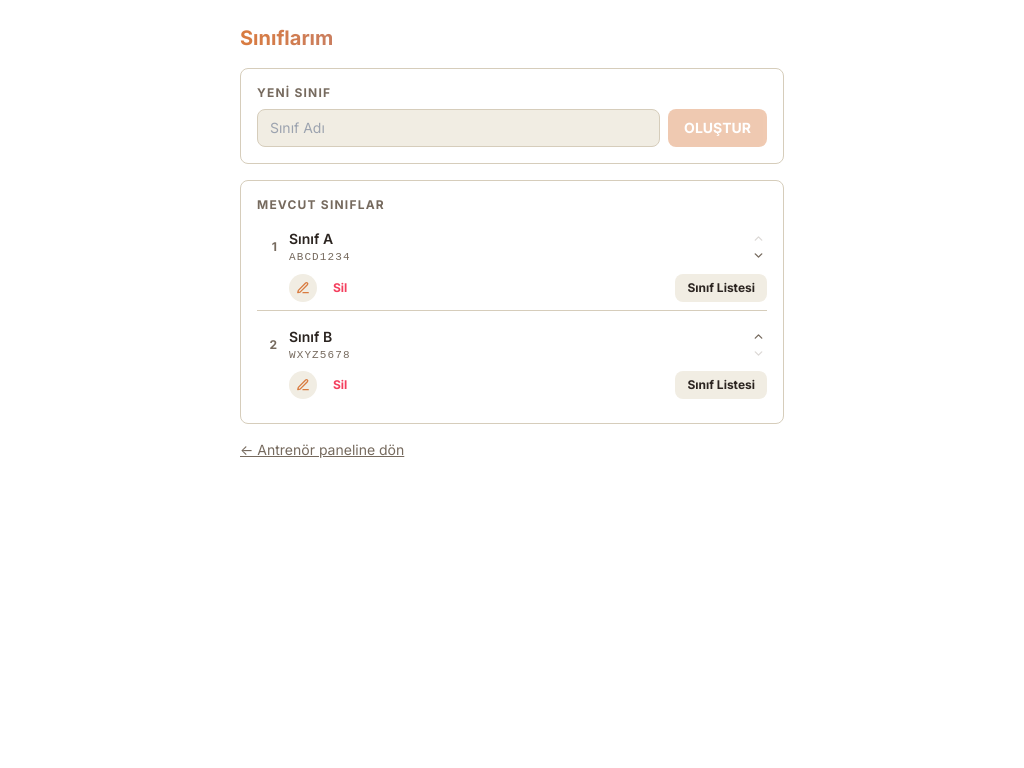
Test: İsim düzeltme (Sınıflarım yönetimi) › kaydetme başarısız olursa hata gösterir, panel açık kalır
The width and height of the screenshot is (1024, 768).
Expected: the text "Sınıf A" is shown, [289,230,333,247]
Click the button named "Sınıf A adını düzenle" at (303,288), box [289,274,317,302]
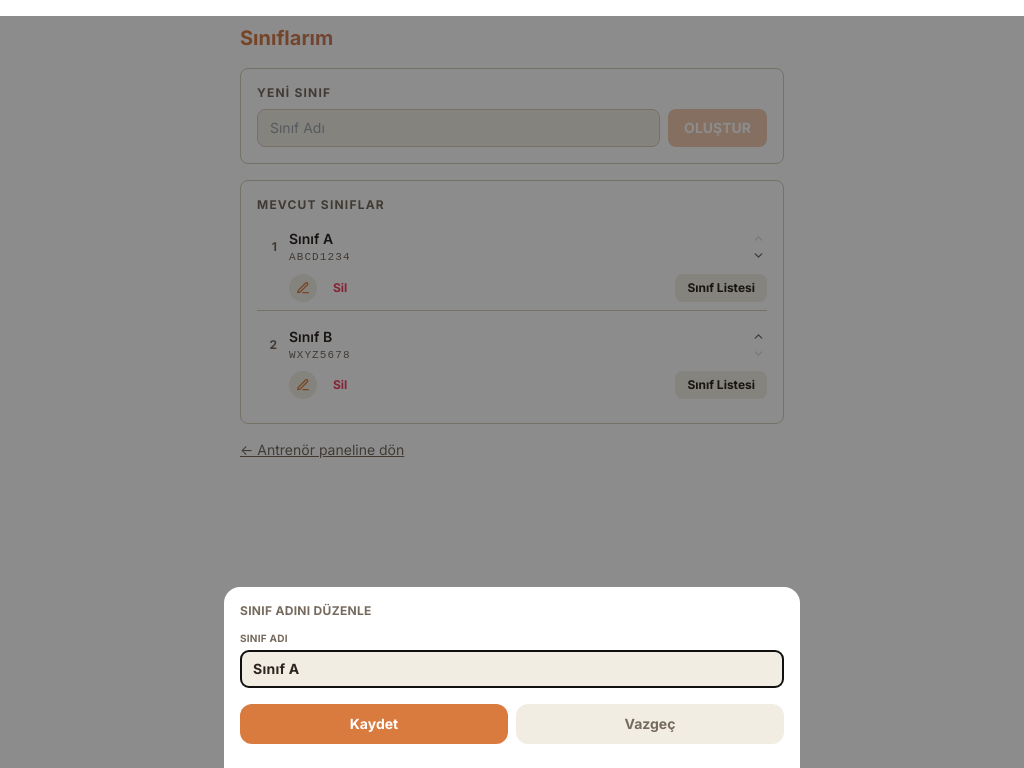
Replace the text in the field labelled "Sınıf Adı" with "X" at (512,669), box [240,650,784,688]
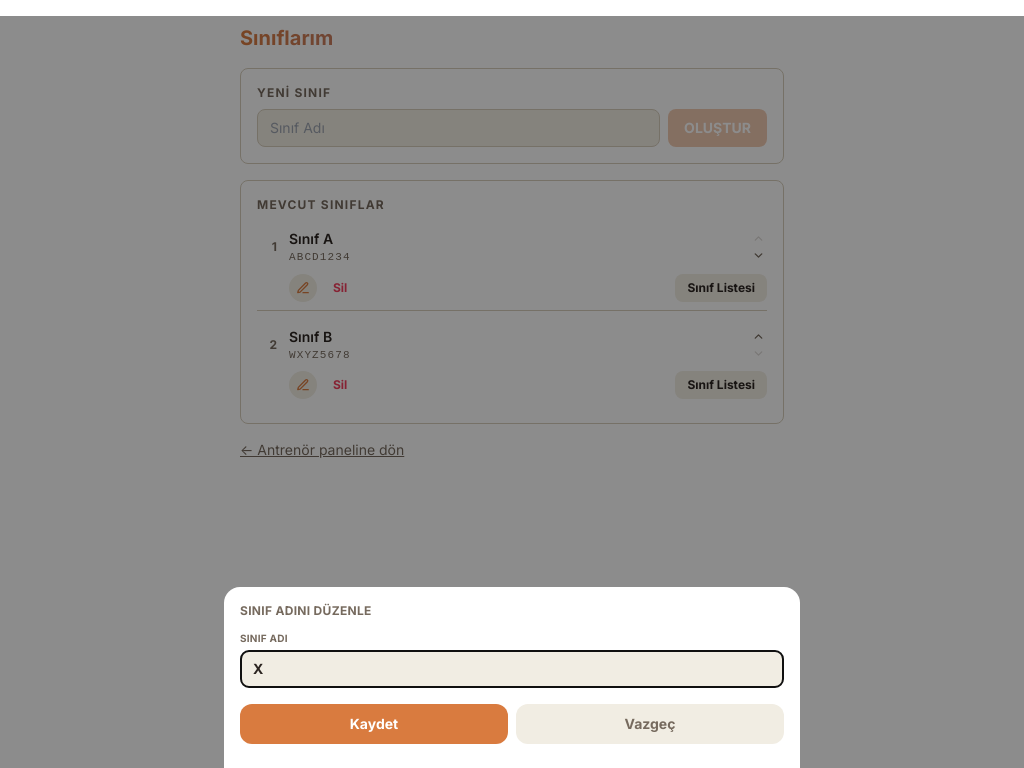
Click the button "Kaydet" at (374,724), box [240,704,508,744]
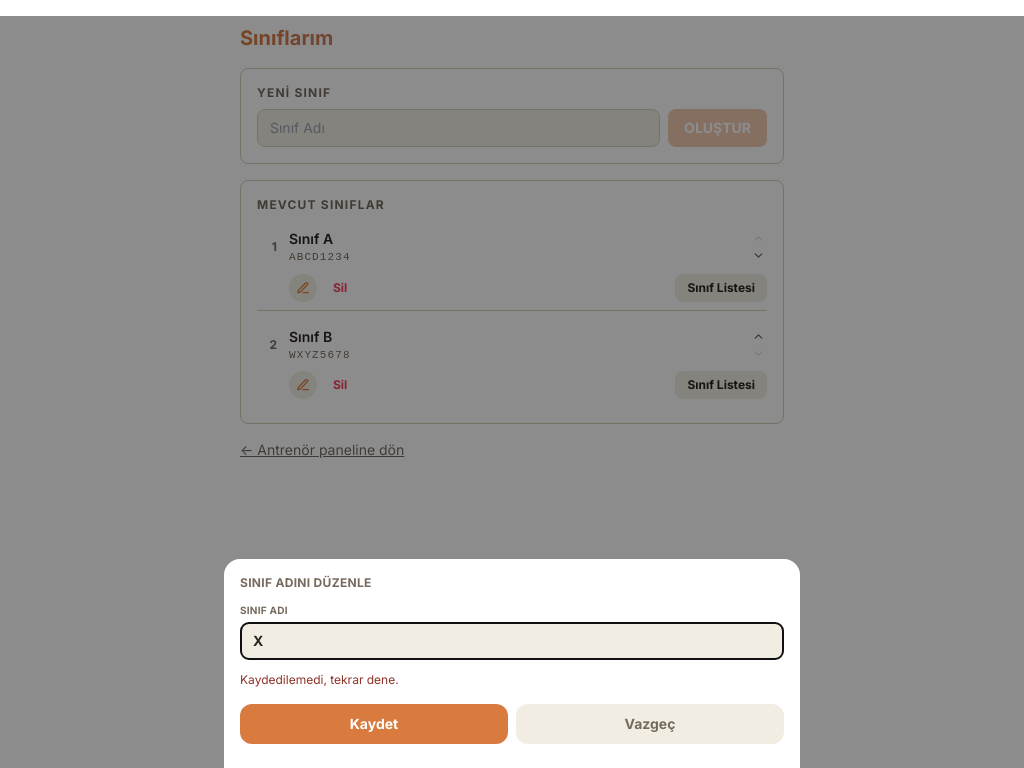
Expected: the text "Kaydedilemedi, tekrar dene." is shown, [240,672,399,687]
